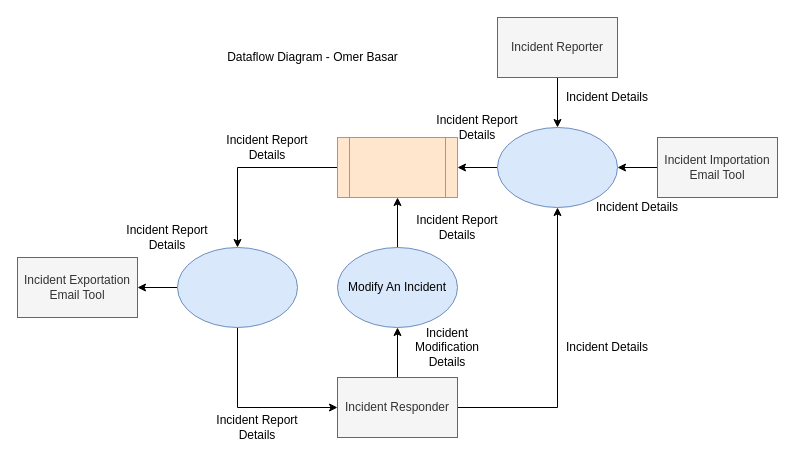
Some shapes in this 795 by 459 pixel diagram are drawn without their labels. Each missing label, with the centre of its shape:
Declare New Incident: the point at 557,167
Incident: the point at 397,167
Retrieve Incident Reports: the point at 237,287
